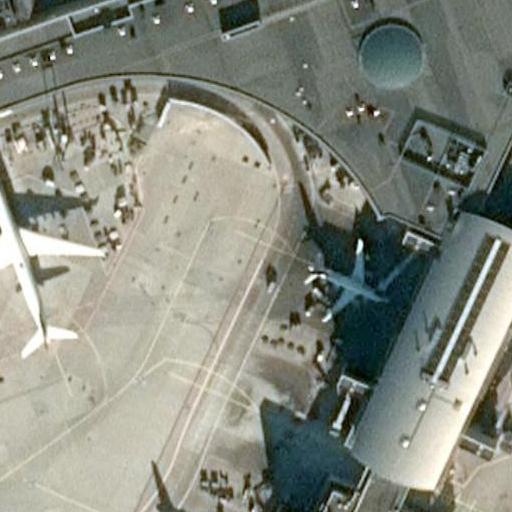Aircraft: (0, 159, 90, 349), (305, 242, 397, 318)
